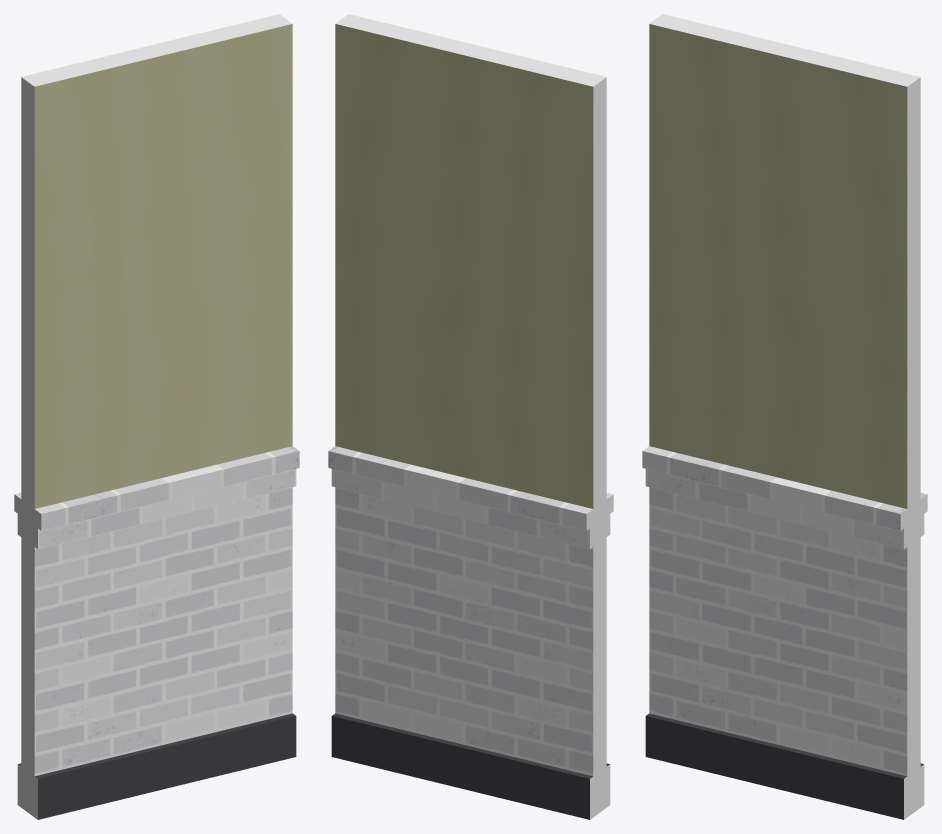
Rendered from SM_Buildings_Wall_1x3_01_TileBack.fbx.
3 views of the same model, side by side, from view 1: azimuth 30°, elevation 25°; view 2: azimuth 150°, elevation 25°; view 3: azimuth 330°, elevation 25° (orthographic).
Parts seen in each view (by area): view 1: SM_Buildings_Wall_1x3_01_TileBack; view 2: SM_Buildings_Wall_1x3_01_TileBack; view 3: SM_Buildings_Wall_1x3_01_TileBack.
Part boxes in pixels (left/top/right/bottom): SM_Buildings_Wall_1x3_01_TileBack: left=14, top=14, right=299, bottom=819; SM_Buildings_Wall_1x3_01_TileBack: left=328, top=14, right=613, bottom=819; SM_Buildings_Wall_1x3_01_TileBack: left=642, top=14, right=927, bottom=819.
Bounding box in the file's own units: 111 × 300 × 20.
Materials: 1 (1 with a texture image).
